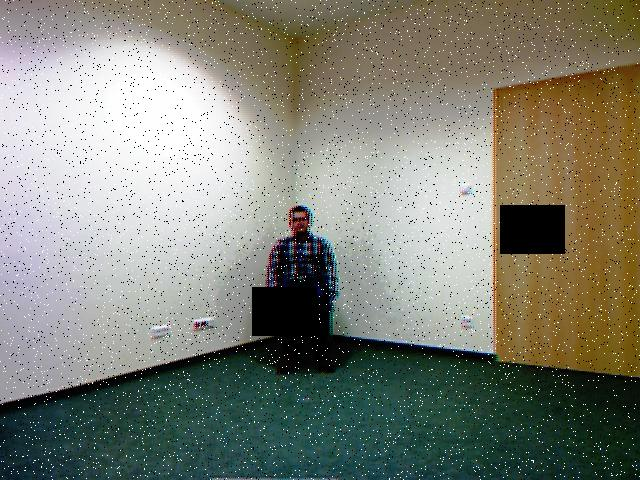sitting: (254, 198, 346, 372)
